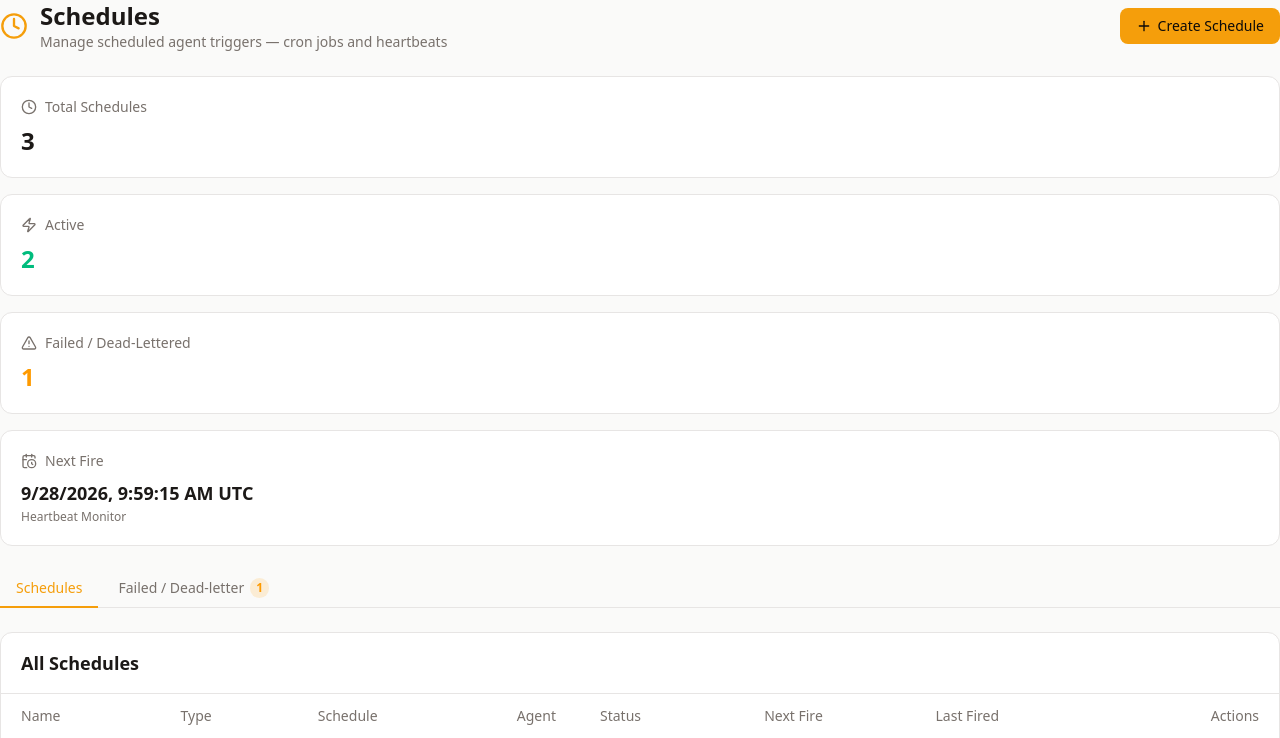
Test: SchedulesPage — cron helper › applies a cron preset when clicked
Step 1. Click the button with test id "create-schedule-btn" → (1200, 26), box [1120, 8, 1279, 44]
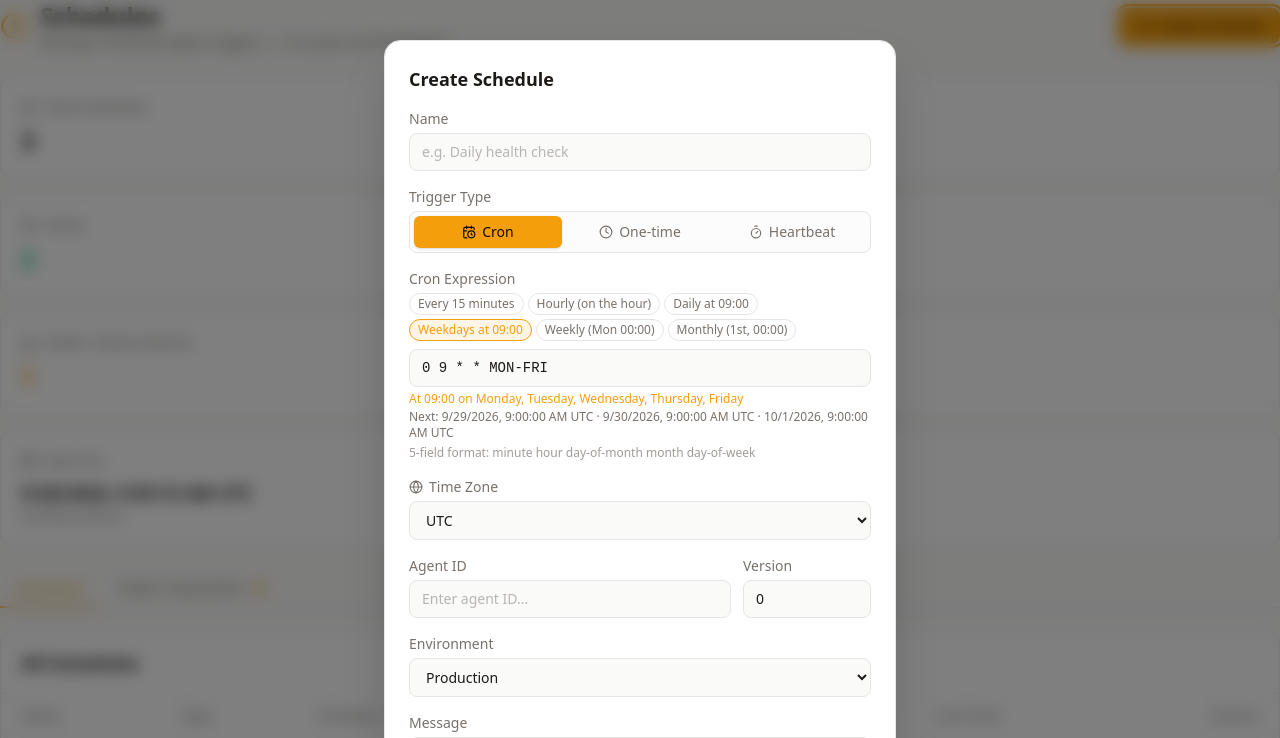
Step 2. Click the button with test id "cron-preset-hourly" → (594, 304), box [528, 293, 660, 315]
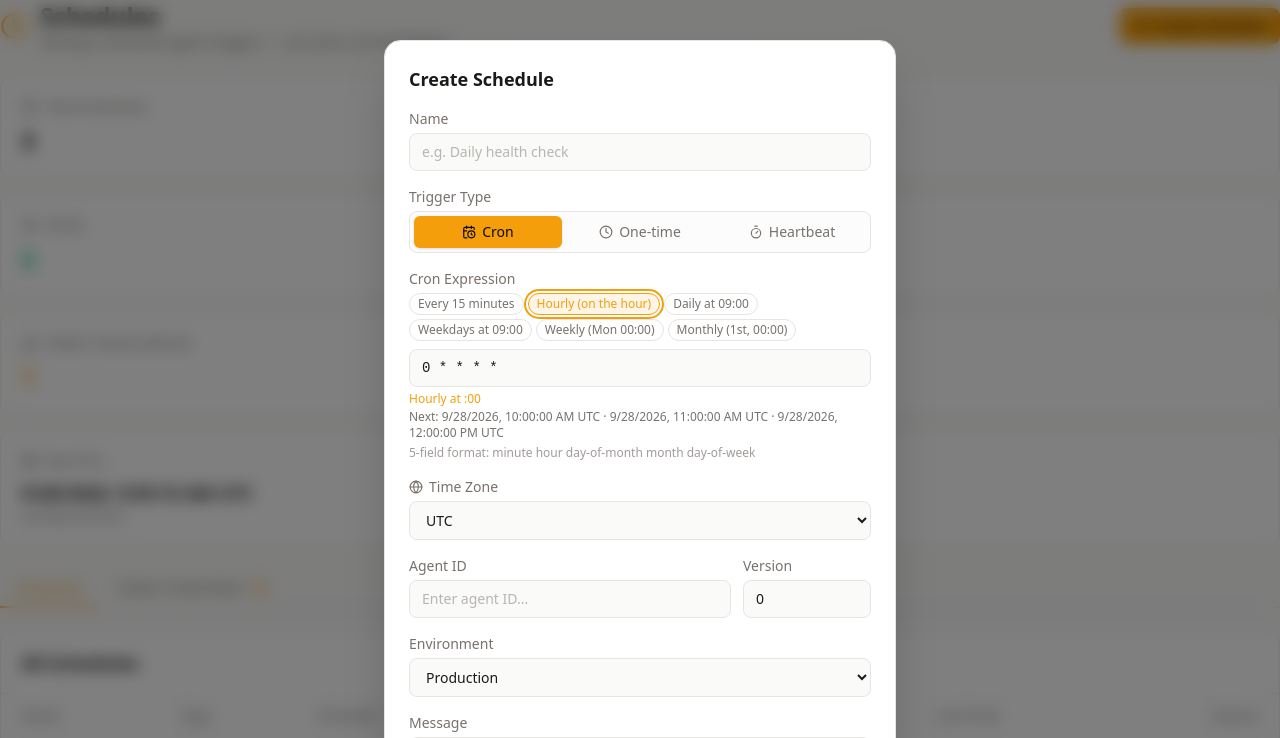
Result: the field with test id "cron-input" holds "0 * * * *" at [409, 349, 871, 387]
